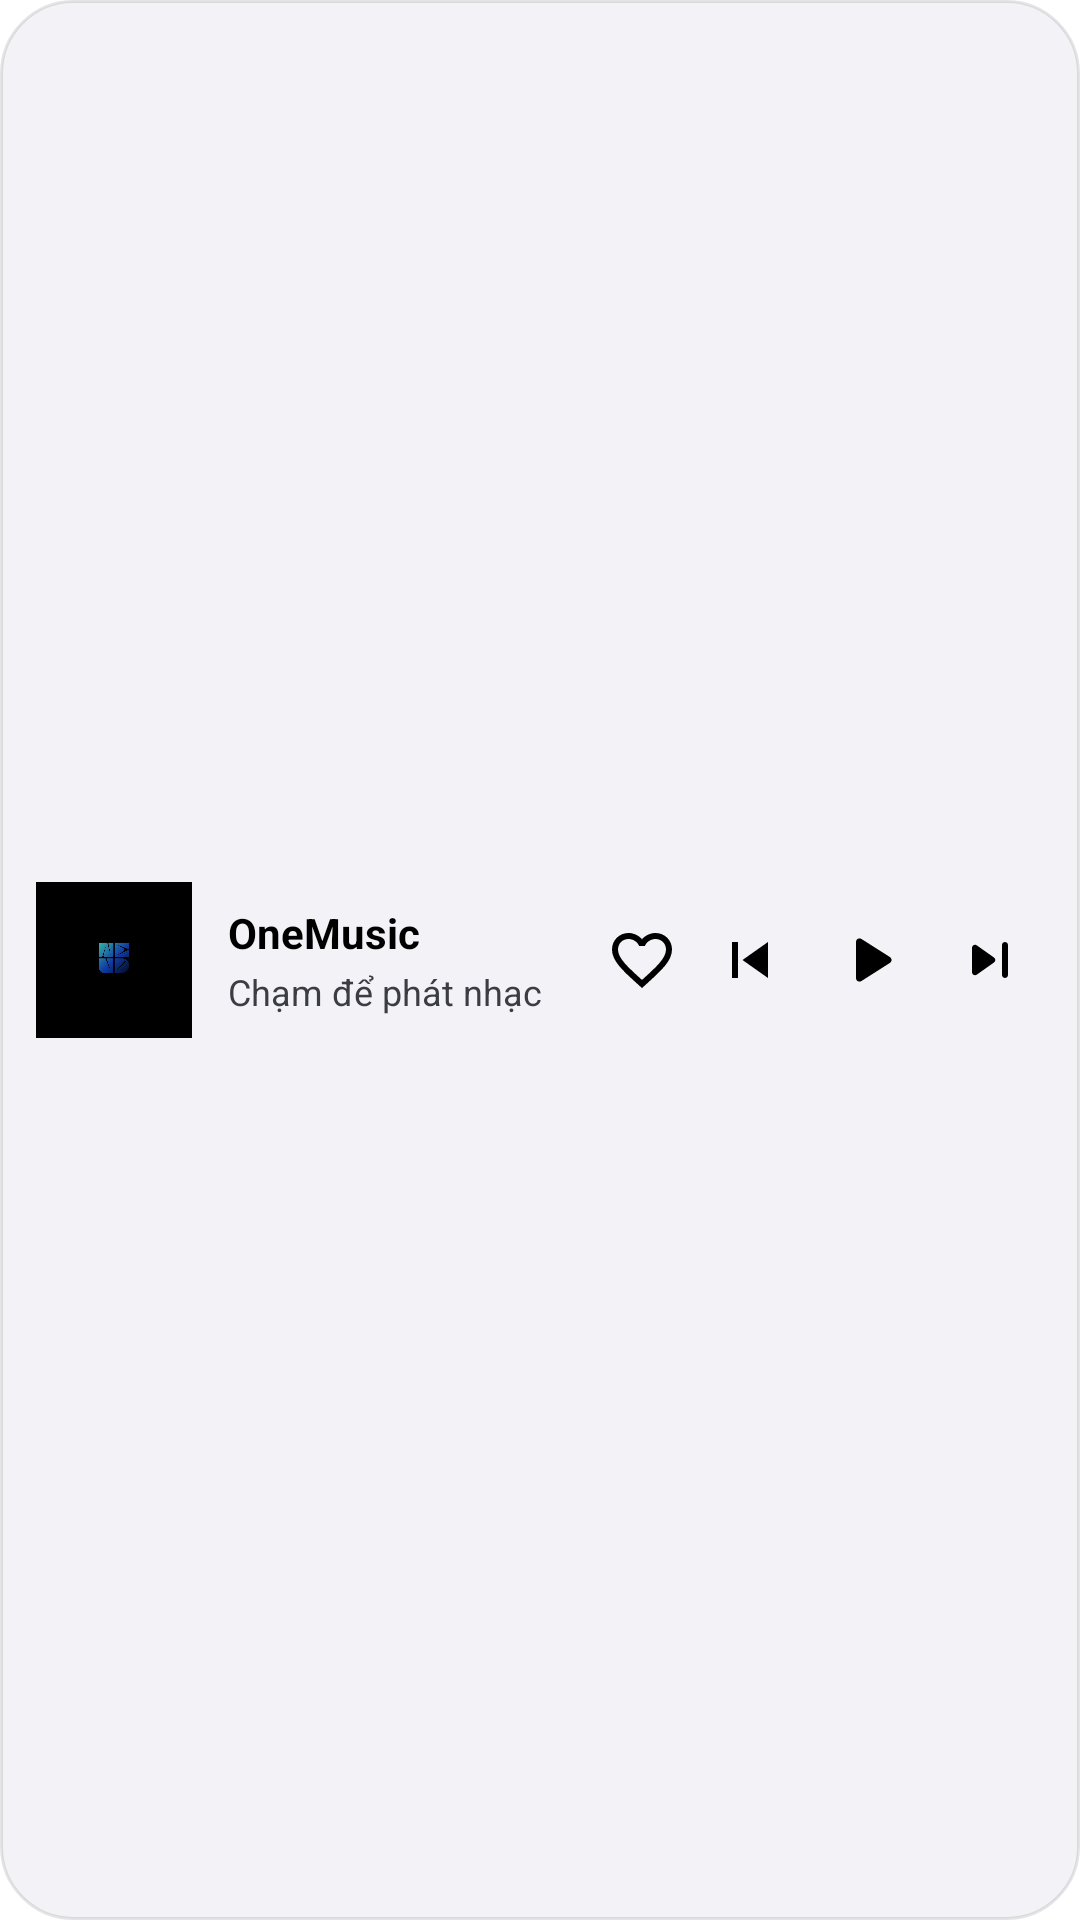

Icon bounding boxes for this 1080×1920 phone screenshot, format bbox=[x1, y1, x2, y2]:
Bài tiếp: bbox=[972, 942, 1008, 978]
Bài trước: bbox=[732, 942, 768, 978]
Phát/Tạm dừng: bbox=[856, 938, 892, 982]
Yêu thích: bbox=[612, 933, 672, 988]
